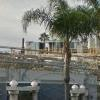Tree: (21, 3, 99, 62)
